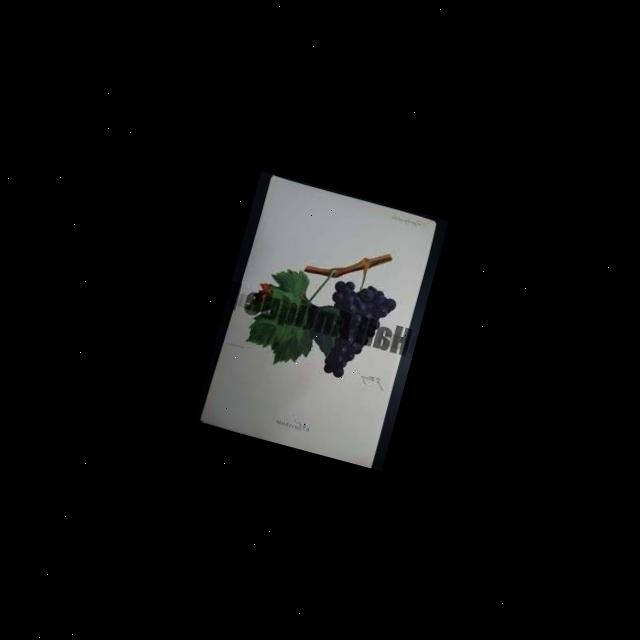grape: (328, 275, 399, 323)
